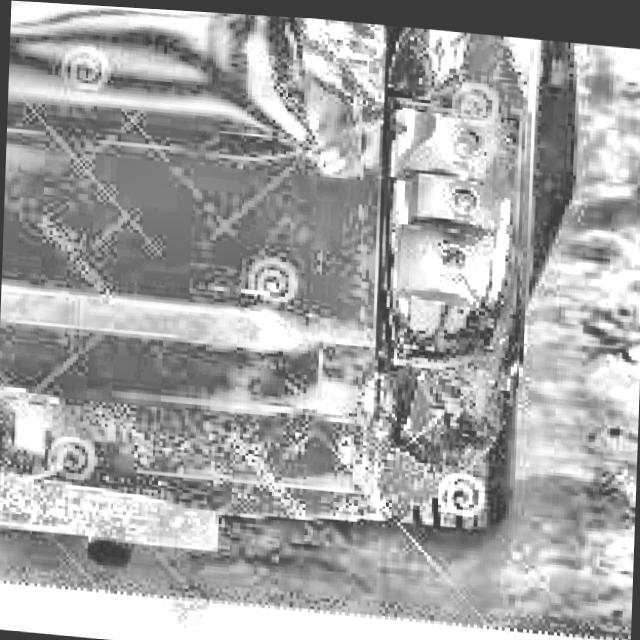tail_lamp: (377, 106, 515, 367)
